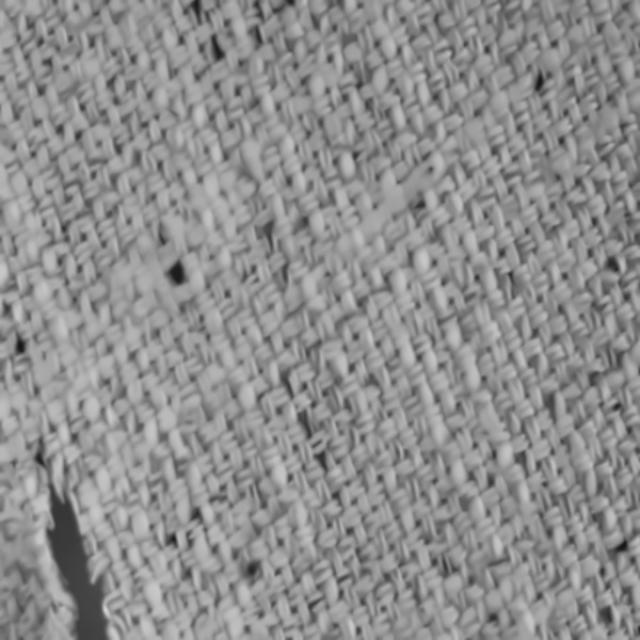other: (10, 475, 162, 640), (124, 225, 229, 348)
